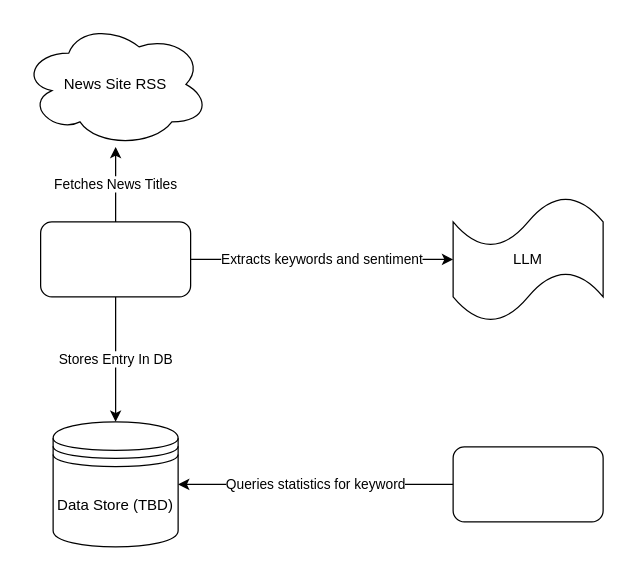
The diagram is 625 pixels wide and 569 high, and some of its shapes have lost their labels. The shapes that lost their labels are listed below. From the top down, each one's centre as x and y in pixels, then its label:
At (x=115, y=259): "RSS Reader".
At (x=527, y=484): "Trend Processor".
